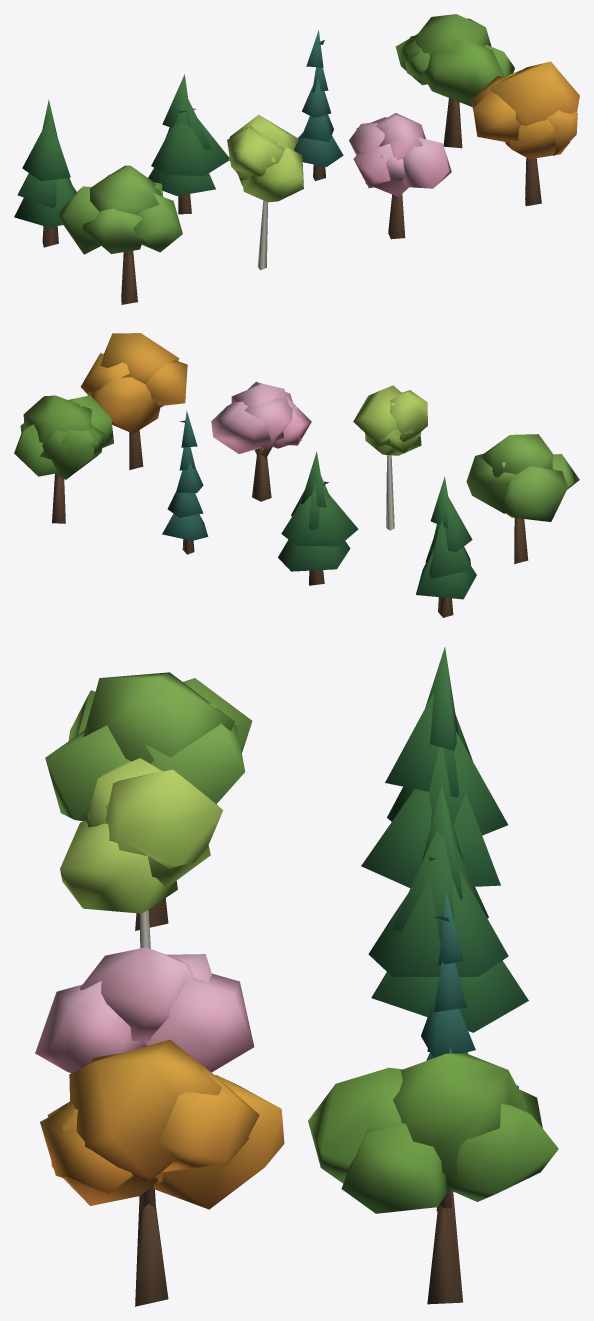
The model's file is nature_trees_lod.glb.
3 renders of one model, top to bottom at view 1: azimuth 30°, elevation 25°; view 2: azimuth 150°, elevation 25°; view 3: azimuth 270°, elevation 25°, orthographic. The views are drawn at different scales.
Parts seen in each view (by area): view 1: autumn_lod, oak_b_lod, oak_a_lod, blossom_lod, birch_lod, pine_b_lod, pine_a_lod, fir_lod; view 2: autumn_lod, oak_b_lod, oak_a_lod, blossom_lod, pine_b_lod, birch_lod, pine_a_lod, fir_lod; view 3: oak_a_lod, autumn_lod, oak_b_lod, blossom_lod, birch_lod, pine_b_lod, pine_a_lod, fir_lod.
Part boxes in pixels (box(x1,y1,x2,y2)): autumn_lod: box(470, 61, 579, 206); oak_b_lod: box(56, 165, 182, 304); oak_a_lod: box(395, 14, 514, 148); blossom_lod: box(349, 113, 451, 239); birch_lod: box(227, 114, 303, 270); pine_b_lod: box(148, 74, 229, 214); pine_a_lod: box(14, 99, 76, 247); fir_lod: box(294, 30, 343, 180); autumn_lod: box(80, 333, 187, 470); oak_b_lod: box(466, 434, 579, 564); oak_a_lod: box(14, 395, 113, 523); blossom_lod: box(211, 381, 311, 501); pine_b_lod: box(278, 451, 358, 585); birch_lod: box(353, 385, 427, 530); pine_a_lod: box(416, 476, 476, 617); fir_lod: box(162, 410, 208, 554); oak_a_lod: box(308, 1053, 558, 1304); autumn_lod: box(40, 1039, 284, 1306); oak_b_lod: box(45, 672, 252, 930); blossom_lod: box(35, 947, 254, 1073); birch_lod: box(60, 758, 222, 948); pine_b_lod: box(368, 786, 528, 1051); pine_a_lod: box(361, 647, 508, 888); fir_lod: box(421, 892, 475, 1060).
Bounding box in the file's own units: 33.98 × 9.52 × 15.91.
